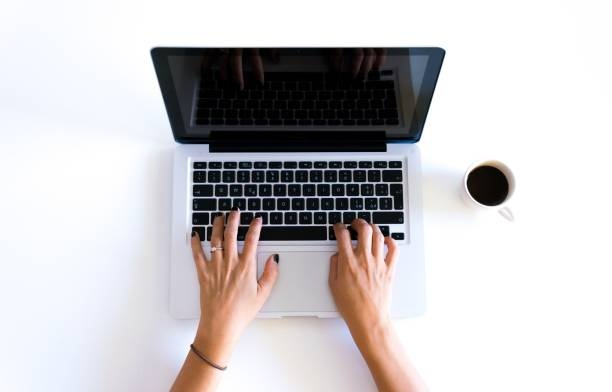keyboard: (190, 157, 409, 246)
laptop: (145, 45, 446, 324)
screen: (151, 46, 444, 142)
